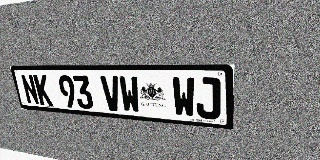3: (72, 75, 94, 109)
9: (57, 75, 78, 108)
J: (195, 77, 220, 120)
K: (33, 75, 53, 106)
N: (20, 74, 40, 105)
V: (100, 76, 122, 112)
W: (172, 77, 196, 118), (118, 76, 141, 113)
